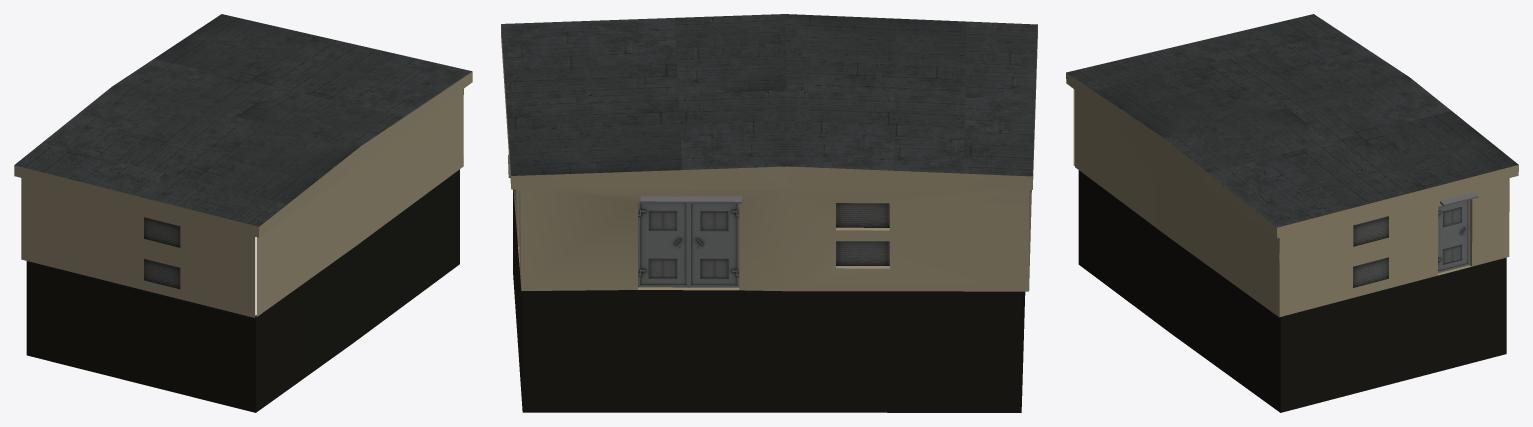
3 renders of one model, left to right at view 1: azimuth 30°, elevation 25°; view 2: azimuth 150°, elevation 25°; view 3: azimuth 270°, elevation 25°, orthographic. The views are drawn at different scales.
Visible parts, largest first — view 1: 01020-50@111226; view 2: 01020-50@111226; view 3: 01020-50@111226.
Boxes of the visible parts, <box> form: 01020-50@111226: <box>14,14,472,412</box>; 01020-50@111226: <box>501,14,1037,412</box>; 01020-50@111226: <box>1066,14,1518,412</box>.
Size of the model in its own units: 12.32 by 5.33 by 11.03.
1 material, 1 textured.
